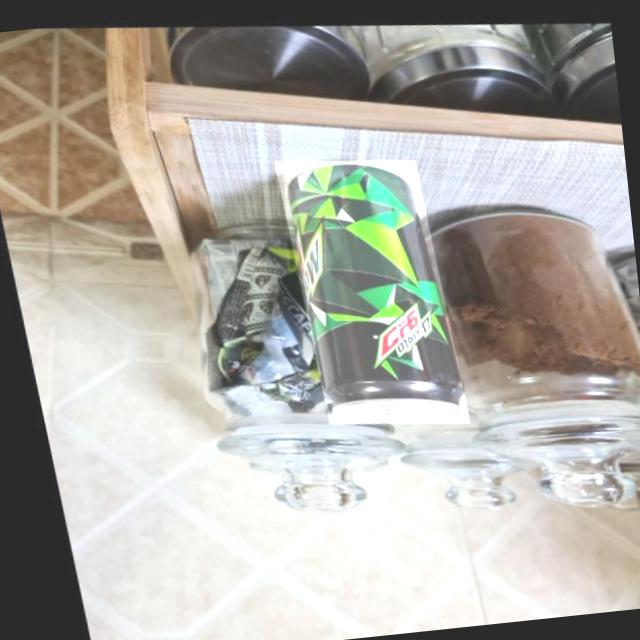trash: (282, 148, 467, 438)
